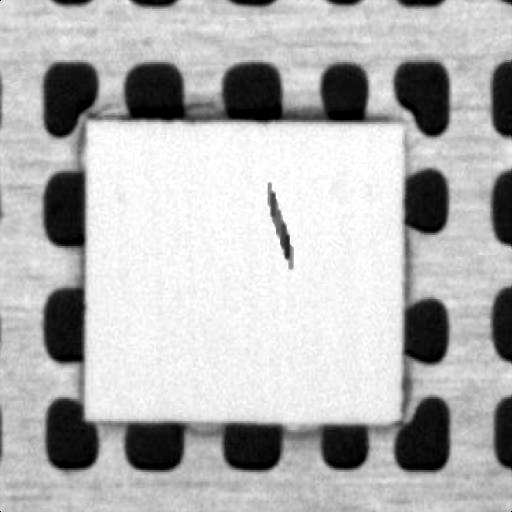DIE_INK: (260, 176, 295, 270)
